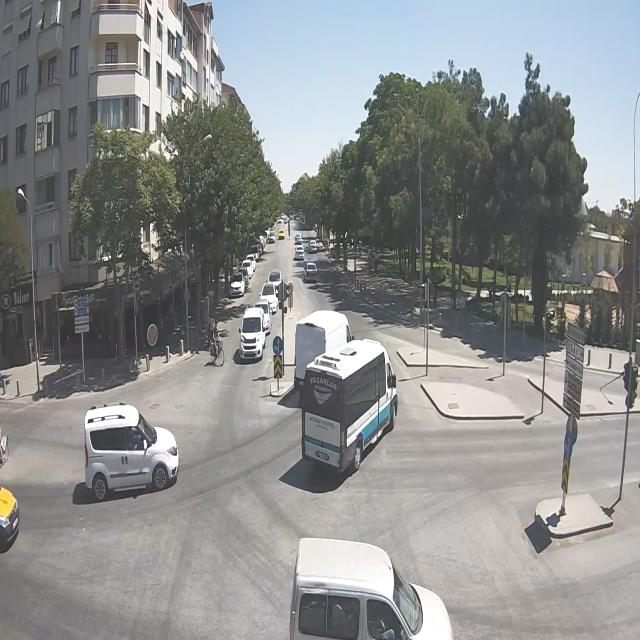Bus: (301, 338, 400, 476)
Car: (290, 536, 454, 640), (83, 401, 180, 500), (239, 308, 268, 359), (0, 483, 20, 552), (252, 300, 272, 334), (259, 283, 279, 312), (267, 270, 283, 298), (230, 273, 247, 297), (302, 262, 318, 282), (239, 258, 252, 278), (294, 245, 305, 259), (317, 240, 327, 252), (308, 240, 317, 252), (294, 233, 303, 244)
Cycle: (210, 338, 226, 366)
Van: (291, 310, 357, 392)
